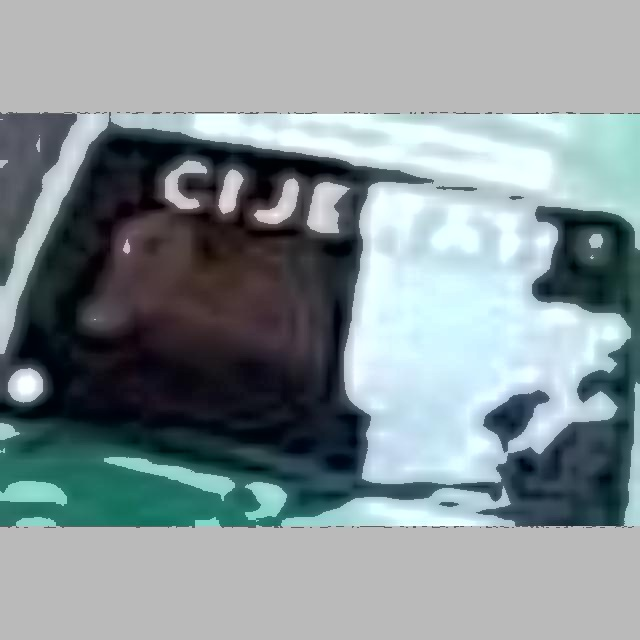tidak-pakai: (105, 184, 342, 403)
